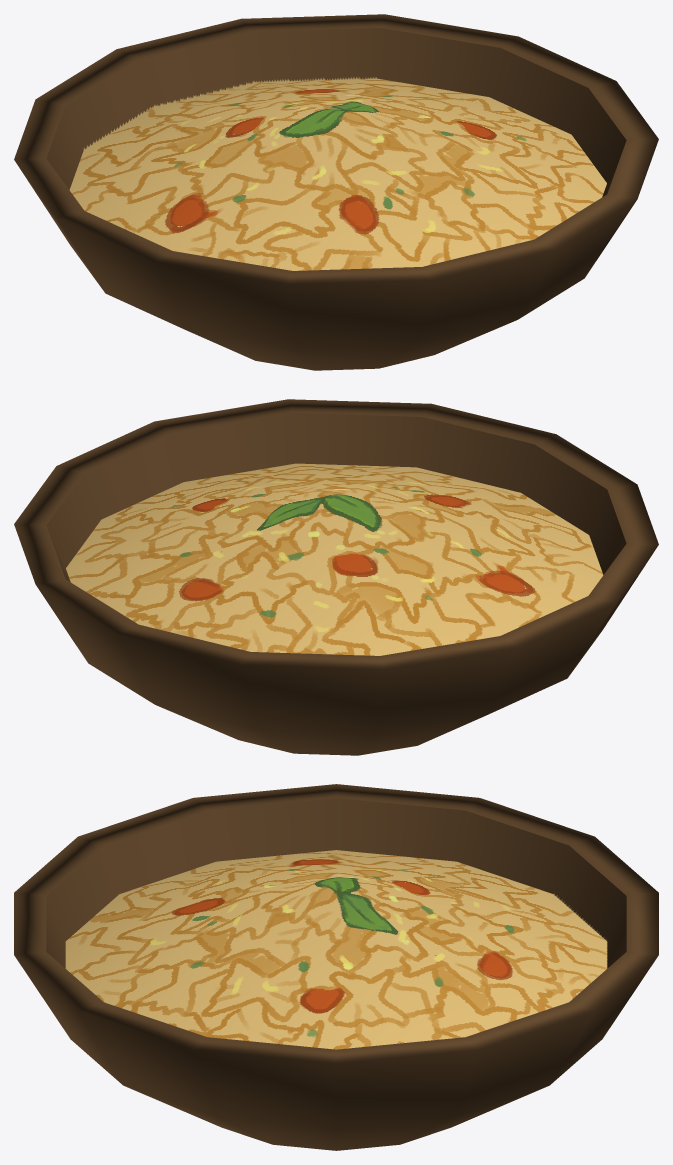
The model's file is pasta.fbx.
3 views of the same model, one above another, from view 1: azimuth 30°, elevation 25°; view 2: azimuth 150°, elevation 25°; view 3: azimuth 270°, elevation 25° (orthographic). The views are drawn at different scales.
Parts seen in each view (by area): view 1: pasta; view 2: pasta; view 3: pasta.
Part boxes in pixels (x1,y1,x2,y2): pasta: (14,14,658,370); pasta: (14,399,658,755); pasta: (14,784,658,1150).
Bounding box in the file's own units: 44.82 × 15.31 × 43.69.
Materials: 1 (1 with a texture image).
